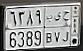3: (17, 11, 26, 48)
6: (7, 11, 17, 48)
8: (25, 10, 35, 47)
9: (33, 10, 42, 47)
B: (44, 14, 54, 43)
J: (62, 10, 71, 43)
V: (53, 11, 63, 43)
